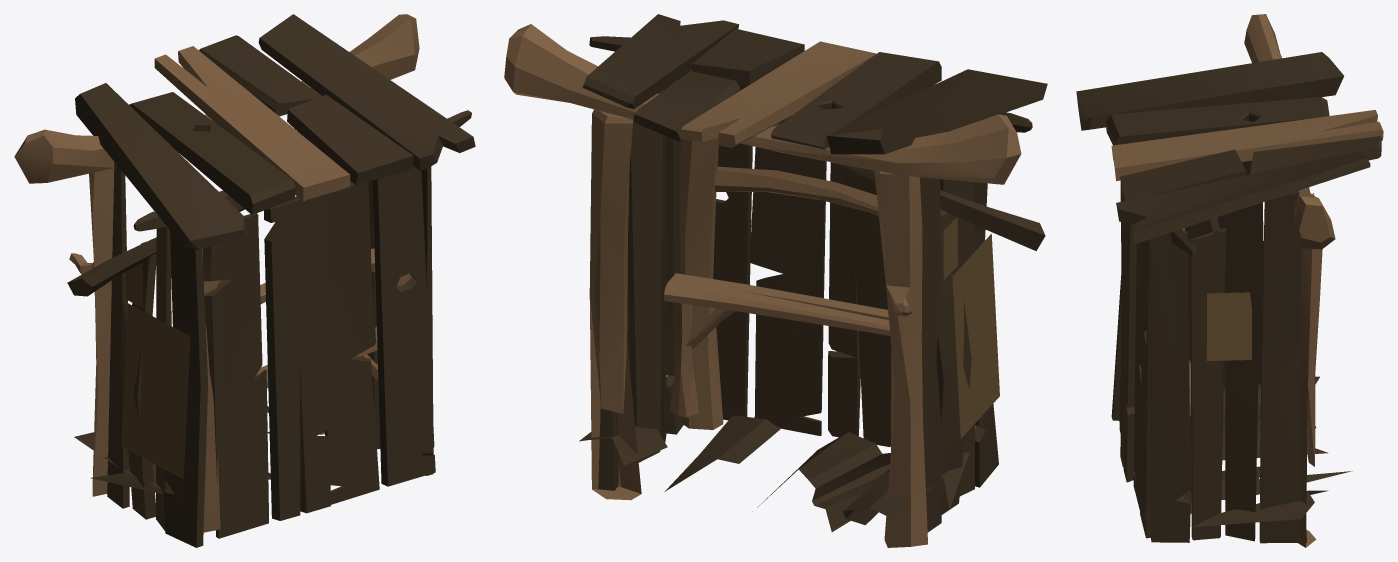
File: Lizzard Spawn.fbx
3 renders of one model, left to right at view 1: azimuth 30°, elevation 25°; view 2: azimuth 150°, elevation 25°; view 3: azimuth 270°, elevation 25°, orthographic. The views are drawn at different scales.
Parts seen in each view (by area): view 1: EA04_Wehicule_Raft_01a; view 2: EA04_Wehicule_Raft_01a; view 3: EA04_Wehicule_Raft_01a.
Boxes of the visible parts, x1,y1,x2,y2 form: EA04_Wehicule_Raft_01a: (14,14,475,547); EA04_Wehicule_Raft_01a: (504,14,1047,547); EA04_Wehicule_Raft_01a: (1076,14,1383,547).
Bounding box in the file's own units: 450 × 400 × 295.
